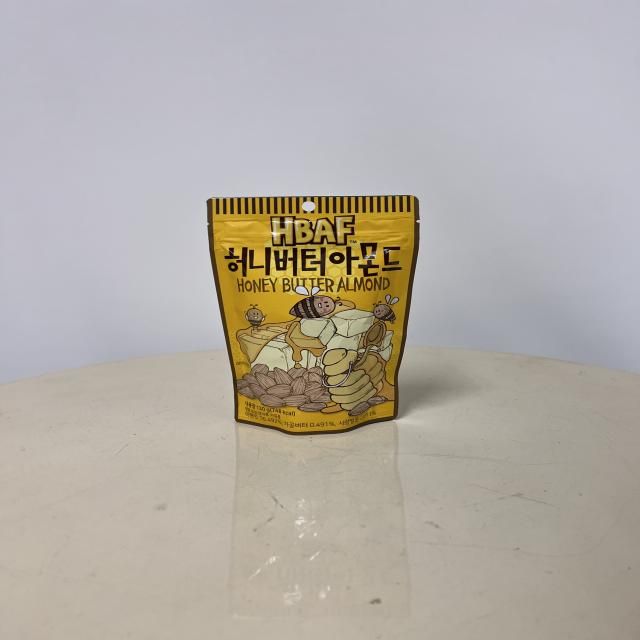honeyAmond: (216, 196, 414, 431)
